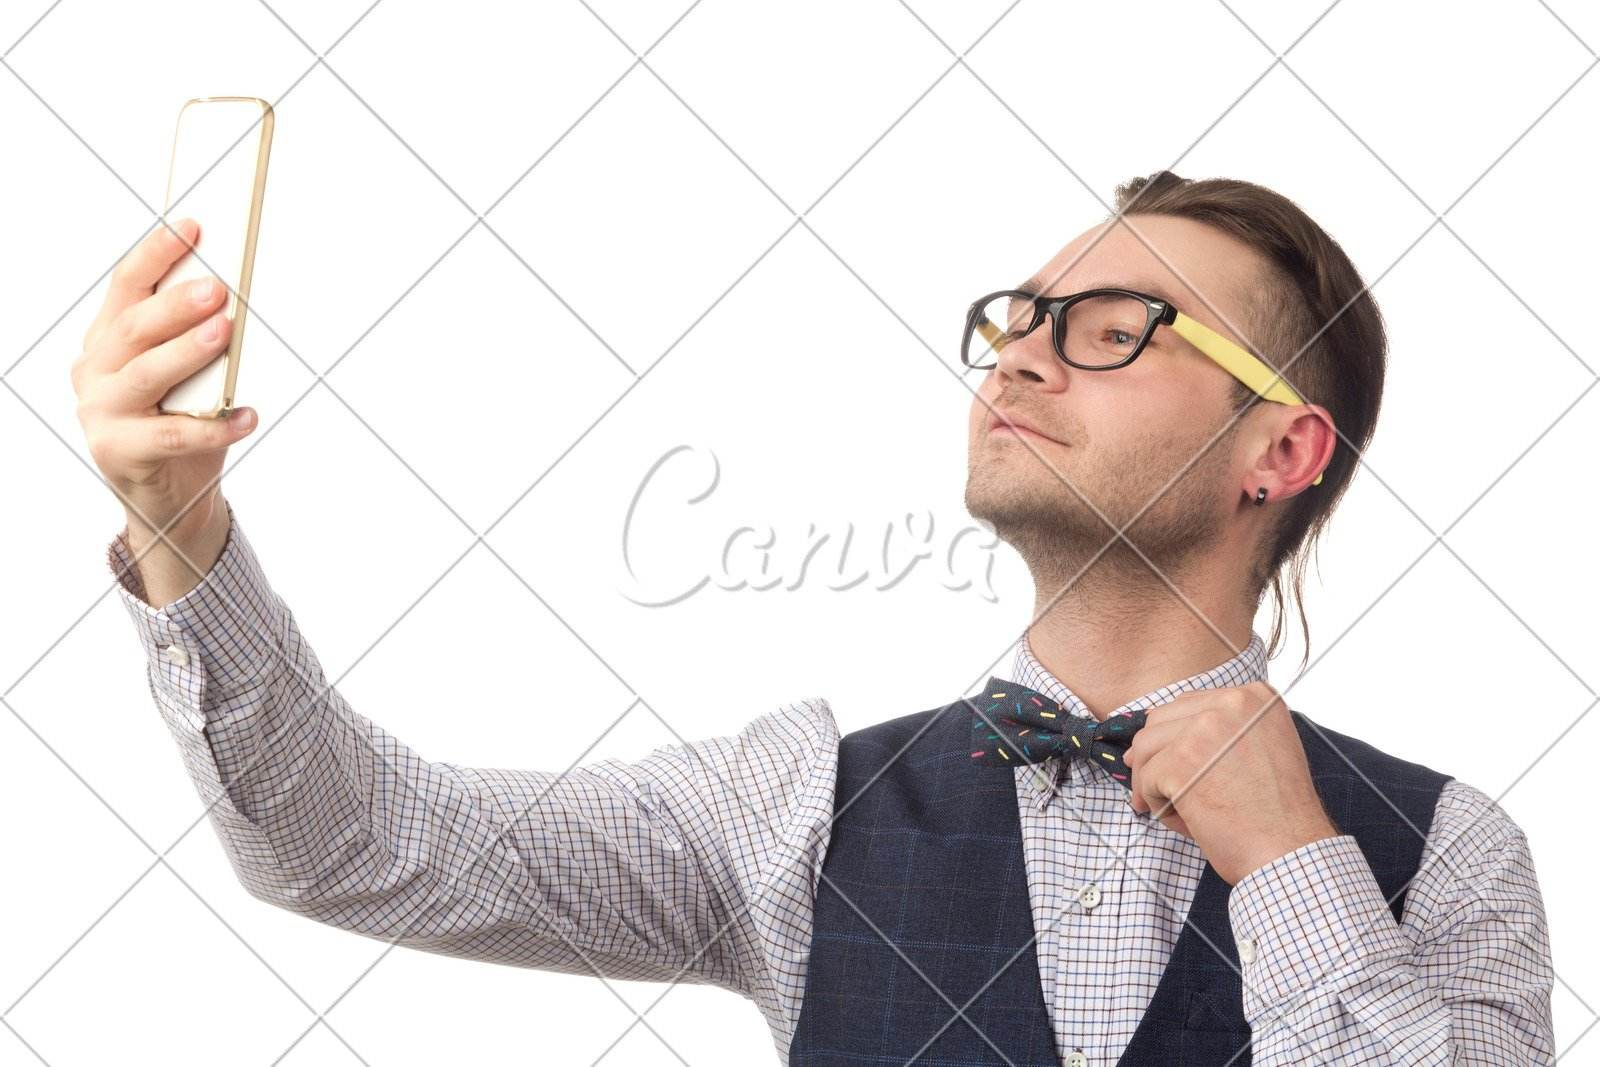taking photos: (64, 86, 286, 561)
